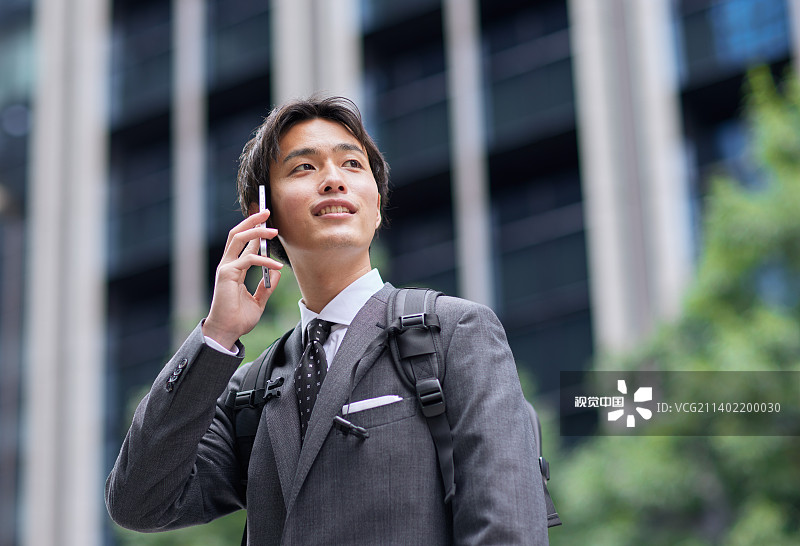calling: (199, 187, 296, 352)
